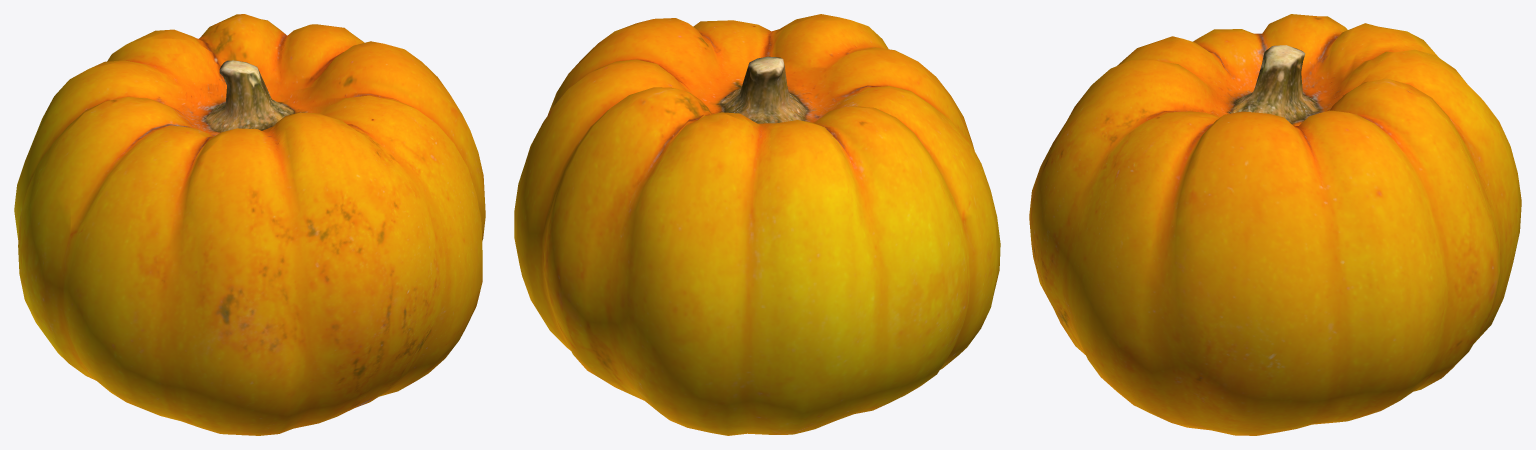
Rendered from Pumpkin.fbx.
The picture shows the model from 3 angles, left to right: view 1: azimuth 30°, elevation 25°; view 2: azimuth 150°, elevation 25°; view 3: azimuth 270°, elevation 25°; orthographic projection. The views are drawn at different scales.
Visible parts, largest first — view 1: PumpkinModel; view 2: PumpkinModel; view 3: PumpkinModel.
Part boxes in pixels (x1,y1,x2,y2): PumpkinModel: (14, 14, 485, 435); PumpkinModel: (514, 14, 1000, 435); PumpkinModel: (1029, 14, 1521, 435).
Bounding box in the file's own units: 15.93 × 11.7 × 15.92.
